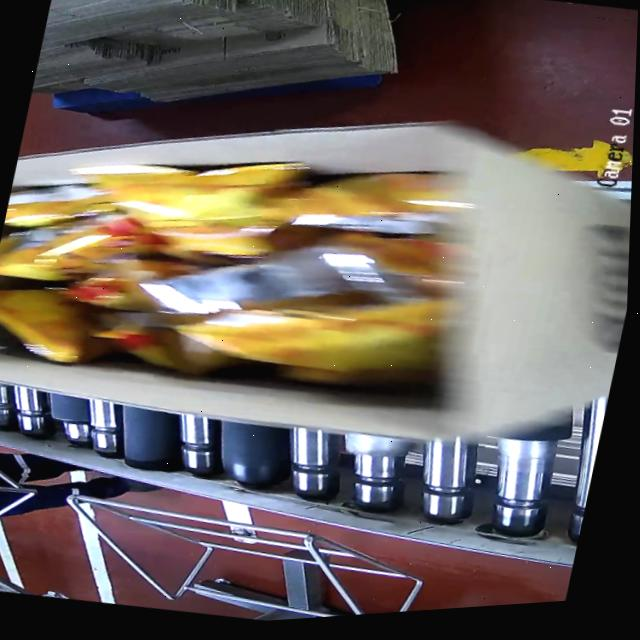FRENCH_CHEESE: (0, 114, 479, 434)
